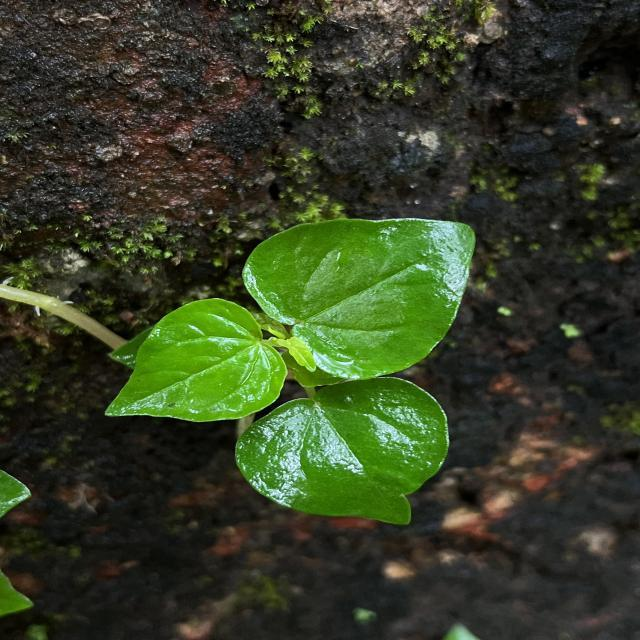Peperomia pellucida: (241, 216, 478, 381), (232, 374, 452, 528), (104, 297, 289, 424)
